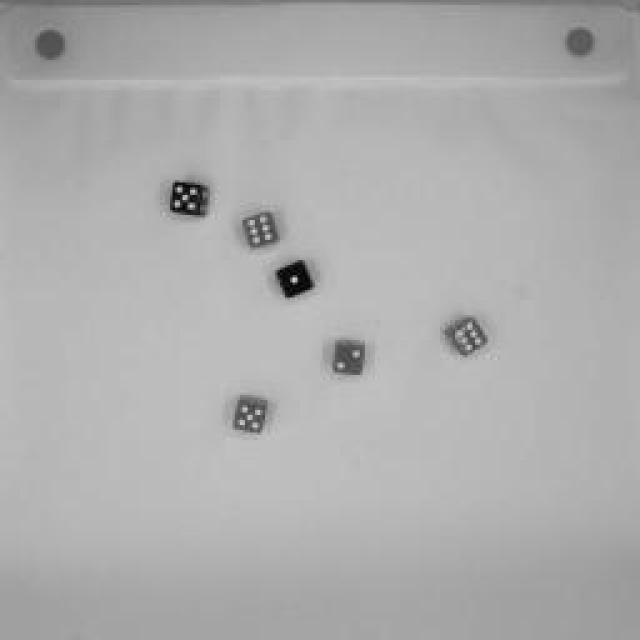dice_1: (276, 256, 319, 299)
dice_2: (329, 336, 371, 379)
dice_5: (166, 181, 214, 221), (230, 395, 270, 435)
dice_6: (444, 311, 491, 359), (240, 209, 282, 251)
